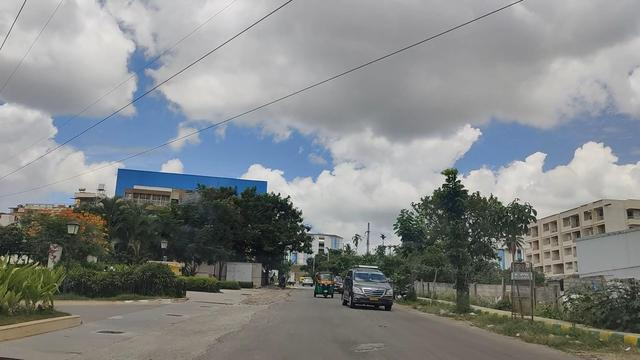RoadDamages: (37, 335, 136, 360), (205, 300, 269, 337), (339, 332, 391, 360), (172, 336, 225, 360)
